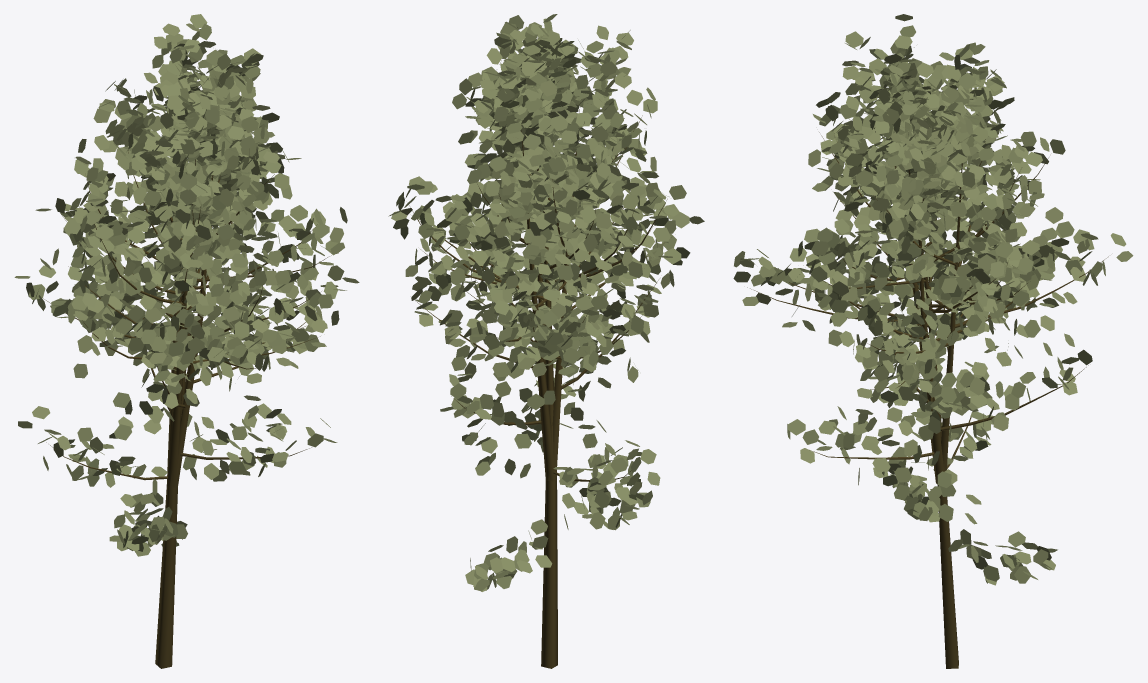
Rendered from tree-tree-008.glb.
The picture shows the model from 3 angles, left to right: view 1: azimuth 30°, elevation 25°; view 2: azimuth 150°, elevation 25°; view 3: azimuth 270°, elevation 25°; orthographic projection.
Parts seen in each view (by area): view 1: v_tree.008; view 2: v_tree.008; view 3: v_tree.008.
Part boxes in pixels (<box>): v_tree.008: <box>14,14,359,668</box>; v_tree.008: <box>388,14,704,668</box>; v_tree.008: <box>733,14,1133,668</box>.
Size of the model in its own units: 7.99 by 17.37 by 9.84.
